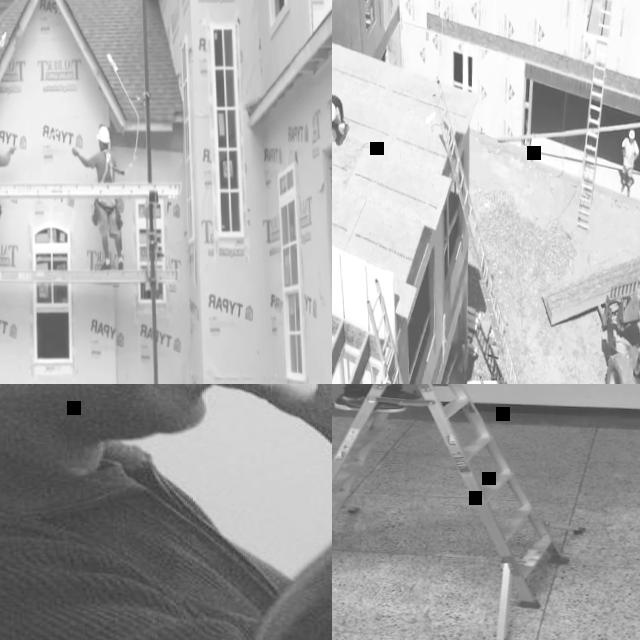Hardhat: (96, 124, 110, 142), (332, 100, 336, 121), (628, 127, 635, 137)
NO-Mask: (0, 384, 214, 436), (98, 143, 102, 150), (628, 138, 632, 142)
NO-Safety Vest: (0, 429, 294, 640), (95, 148, 114, 180)
Person: (0, 384, 332, 640), (71, 124, 123, 269), (0, 115, 18, 268), (620, 126, 640, 196), (332, 93, 344, 142)
Safety Vest: (623, 137, 635, 162)
